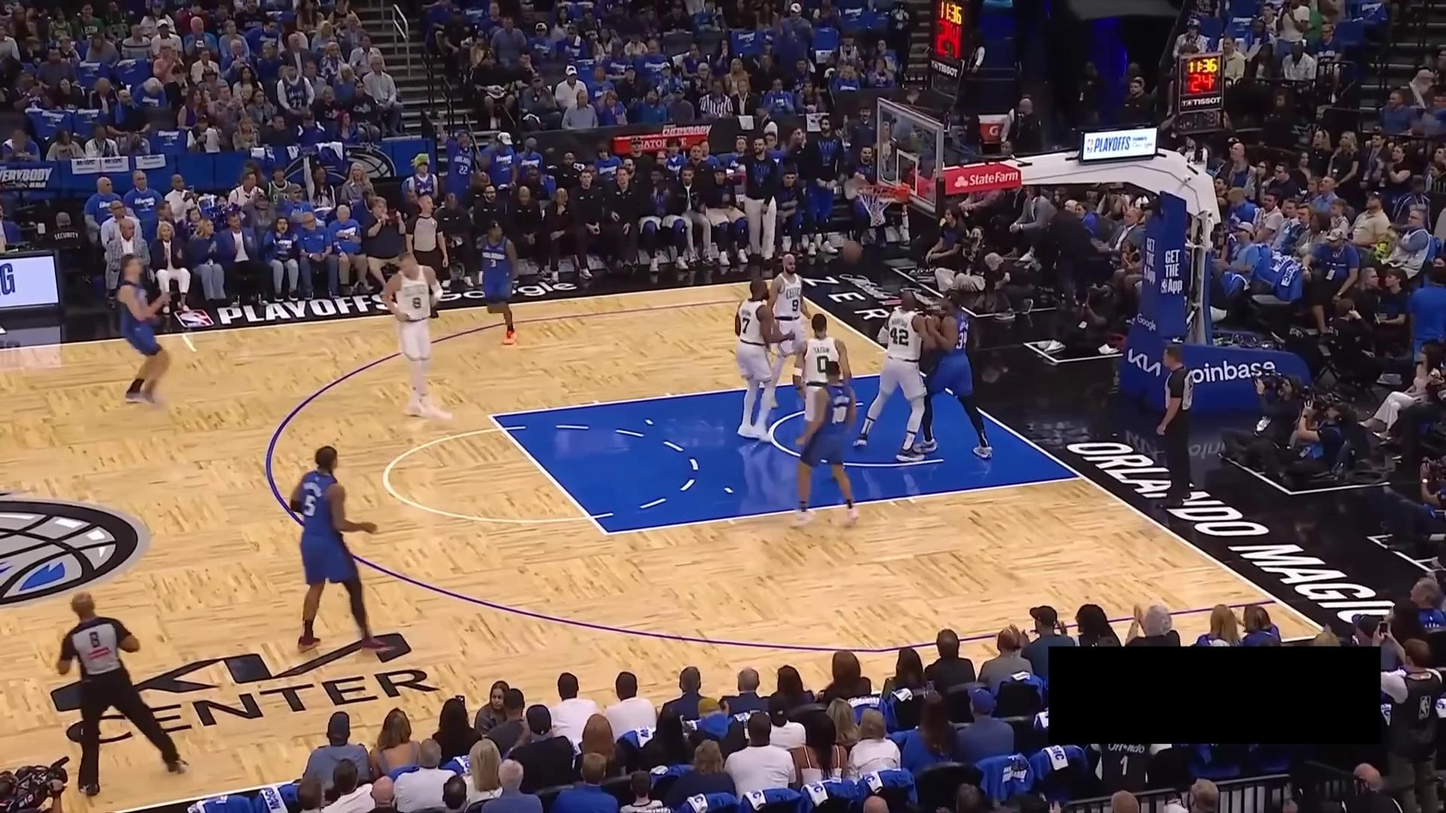ball: (842, 239, 862, 261)
number: (889, 327, 909, 346), (831, 405, 848, 425), (304, 494, 316, 517), (816, 355, 828, 373), (956, 331, 967, 350), (411, 296, 423, 311), (741, 316, 750, 334), (790, 297, 799, 312), (489, 257, 497, 268)
player: (56, 590, 188, 796), (286, 444, 389, 655), (854, 288, 939, 461), (912, 288, 995, 462), (382, 251, 451, 425), (789, 361, 859, 529), (731, 274, 792, 444), (112, 251, 174, 410), (762, 251, 812, 413), (473, 219, 520, 346)
referee: (56, 590, 188, 796), (1155, 344, 1196, 509), (404, 192, 449, 320)
rim: (854, 184, 897, 198)
